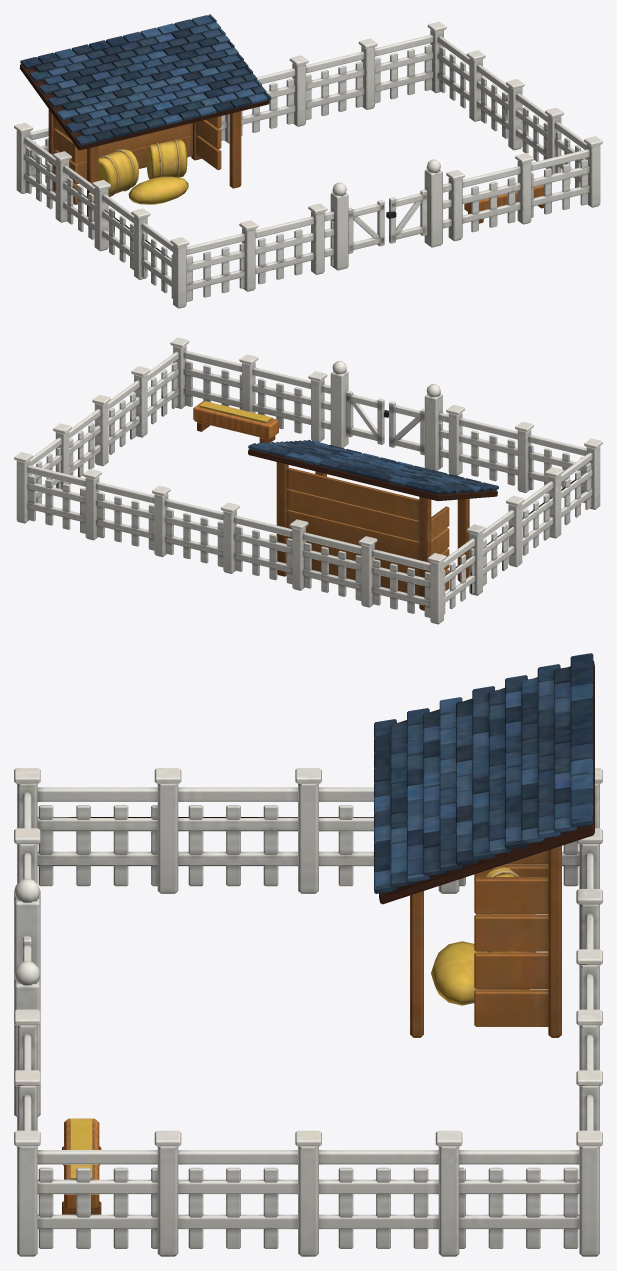
The model's file is black_sheepfold.glb.
The picture shows the model from 3 angles, top to bottom: view 1: azimuth 30°, elevation 25°; view 2: azimuth 150°, elevation 25°; view 3: azimuth 270°, elevation 25°; orthographic projection. The views are drawn at different scales.
Visible parts, largest first — view 1: black_sheepfold, gate1, gate0; view 2: black_sheepfold, gate1, gate0; view 3: black_sheepfold.
Boxes of the visible parts, x1,y1,x2,y2 form: black_sheepfold: [14, 14, 602, 308]; gate1: [386, 189, 427, 243]; gate0: [348, 200, 384, 253]; black_sheepfold: [14, 337, 602, 624]; gate1: [346, 390, 388, 444]; gate0: [389, 401, 424, 455]; black_sheepfold: [14, 653, 602, 1256].
Size of the model in its own units: 2.99 by 0.9342 by 1.99.
1 material, 1 textured.
